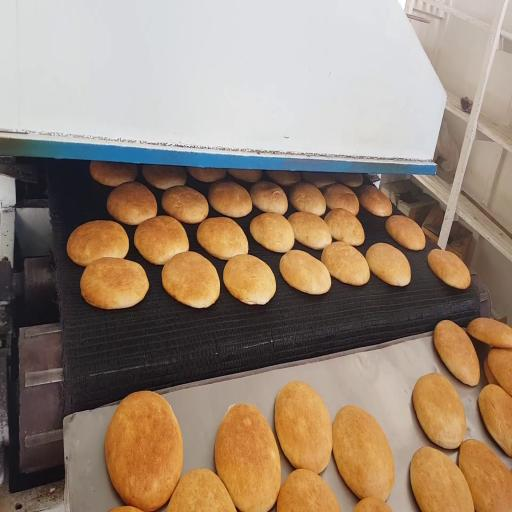bread: (105, 392, 183, 511), (215, 404, 281, 511), (333, 405, 394, 501), (275, 381, 332, 473), (410, 447, 474, 511), (413, 373, 466, 448), (459, 439, 511, 511), (80, 258, 149, 309), (162, 252, 219, 308), (434, 320, 480, 385), (167, 468, 235, 511), (67, 220, 129, 266), (134, 216, 189, 265), (277, 469, 341, 511), (223, 255, 275, 304), (479, 384, 511, 456), (280, 250, 331, 294), (107, 182, 157, 225), (197, 217, 248, 259), (322, 242, 370, 285), (366, 243, 410, 286), (250, 212, 294, 252), (162, 186, 208, 223), (428, 249, 470, 289), (208, 181, 252, 218), (288, 212, 331, 249), (325, 208, 364, 246), (386, 216, 425, 250), (467, 318, 511, 348), (289, 182, 326, 215), (90, 162, 138, 187), (250, 182, 287, 214), (487, 348, 511, 395), (323, 184, 359, 215), (142, 165, 186, 190), (359, 185, 392, 217), (188, 167, 226, 182), (302, 172, 335, 188), (266, 171, 301, 186), (354, 498, 392, 511), (228, 169, 262, 182), (336, 173, 363, 187), (484, 357, 498, 384), (110, 506, 141, 511)
